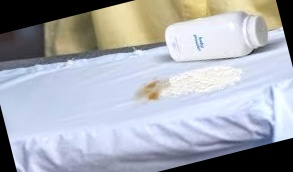oil: (130, 78, 166, 110)
